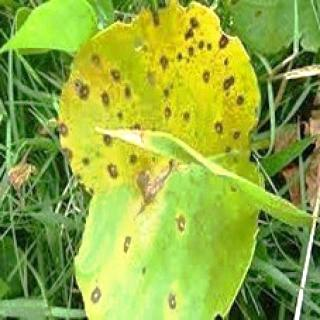leaf spot: (58, 15, 258, 320)
